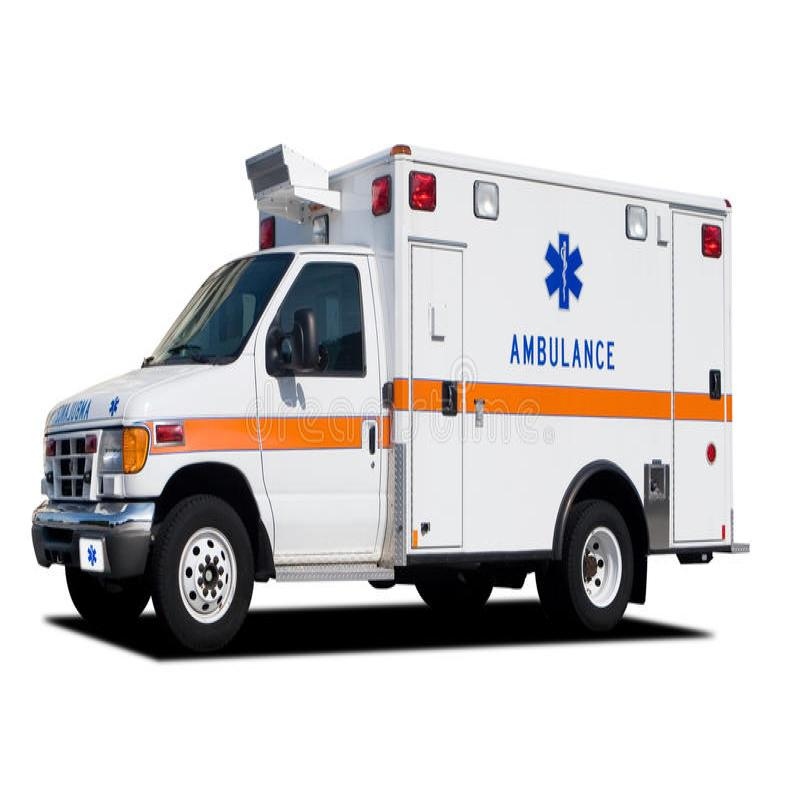ambulance: (32, 67, 755, 684)
